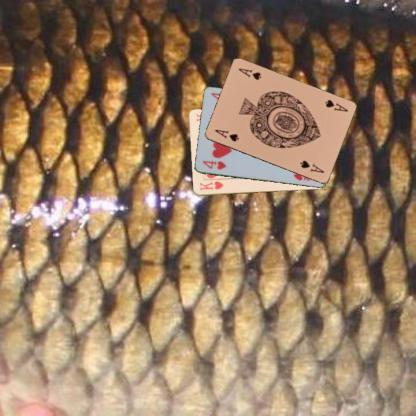4h: (200, 158, 228, 171)
As: (212, 127, 240, 143), (322, 97, 349, 113)
Kh: (197, 179, 224, 192)
